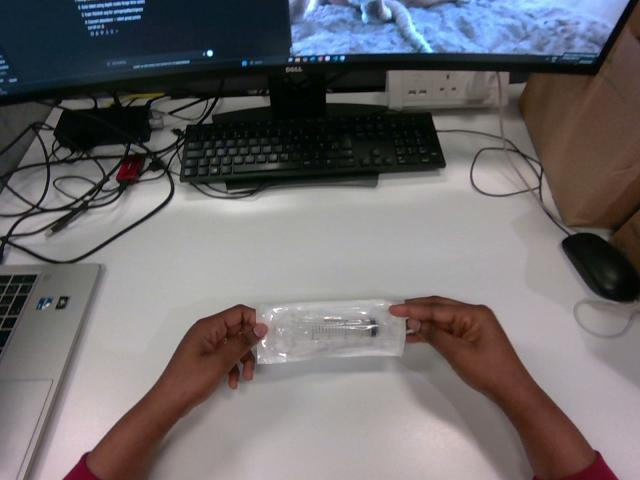syringe: (257, 300, 405, 363)
